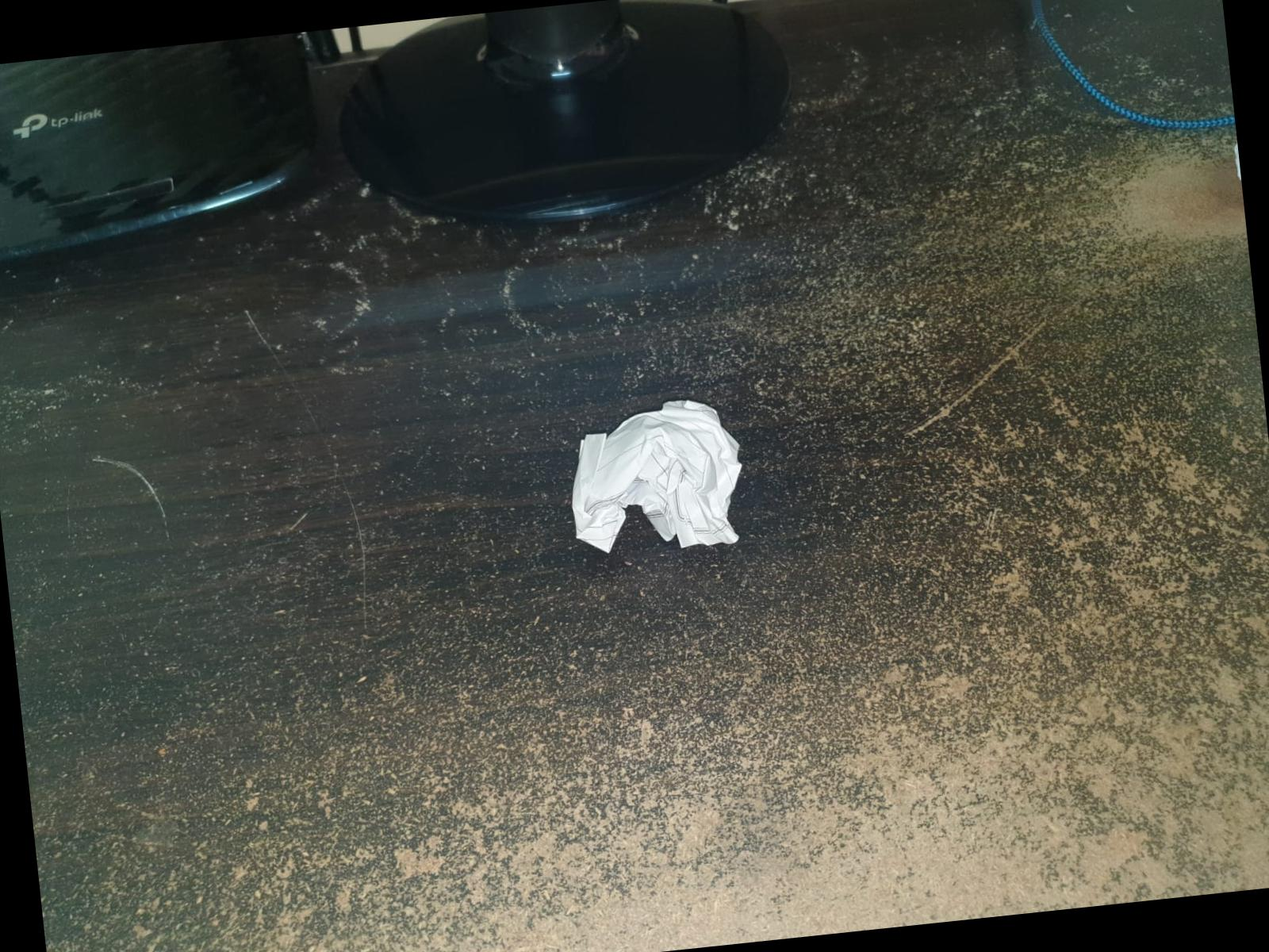Kertas: (571, 389, 743, 571)
